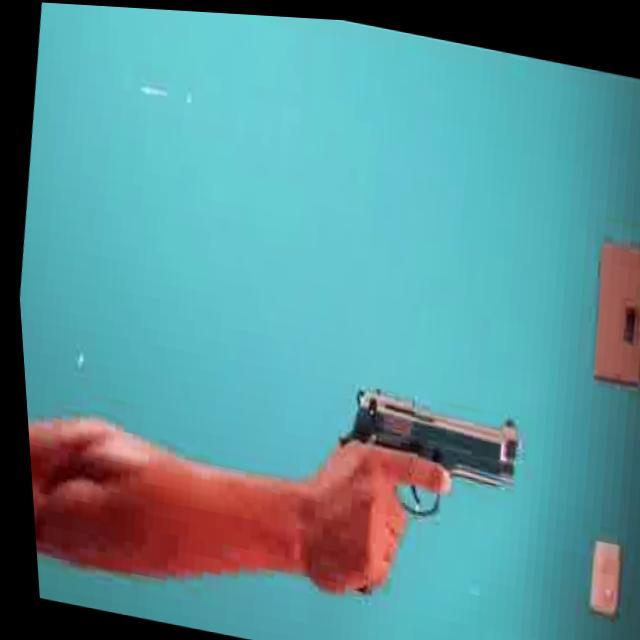weapon: (300, 372, 534, 631)
